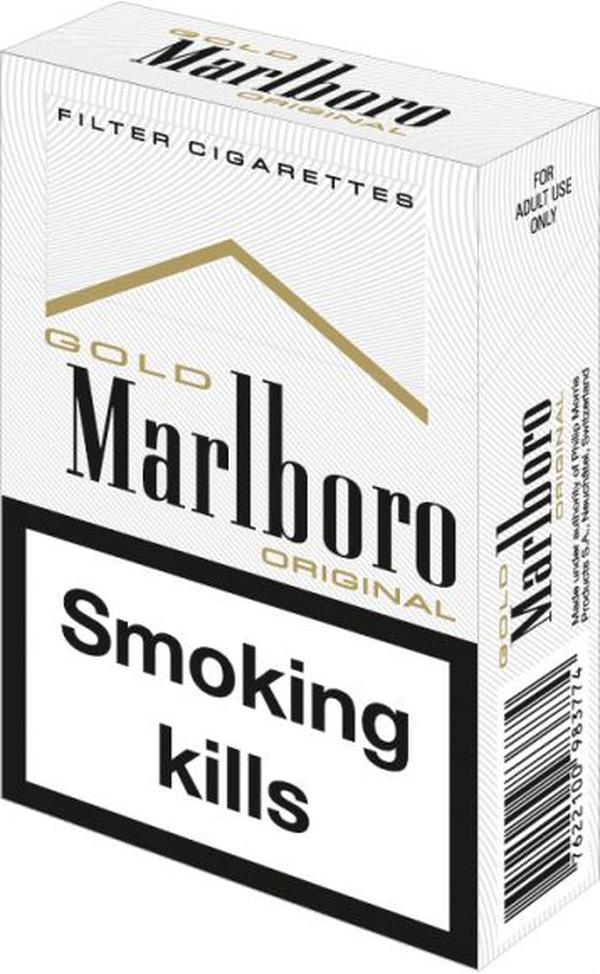marlboro_gold: (1, 156, 468, 796)
